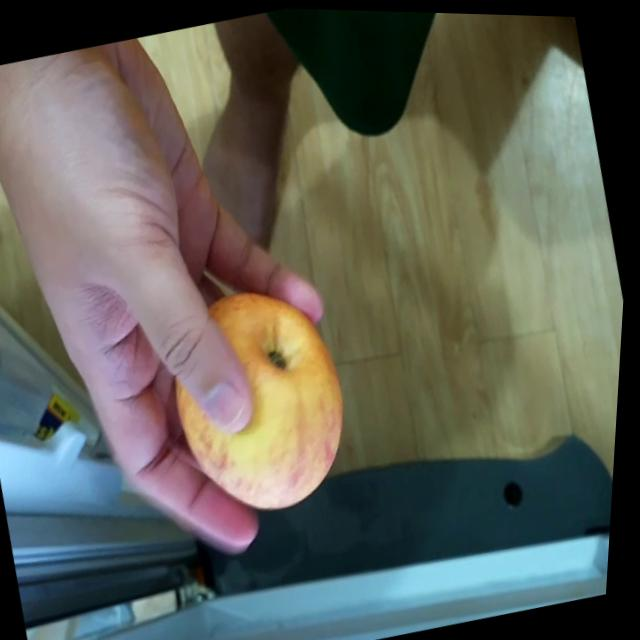apple: (154, 270, 374, 526)
